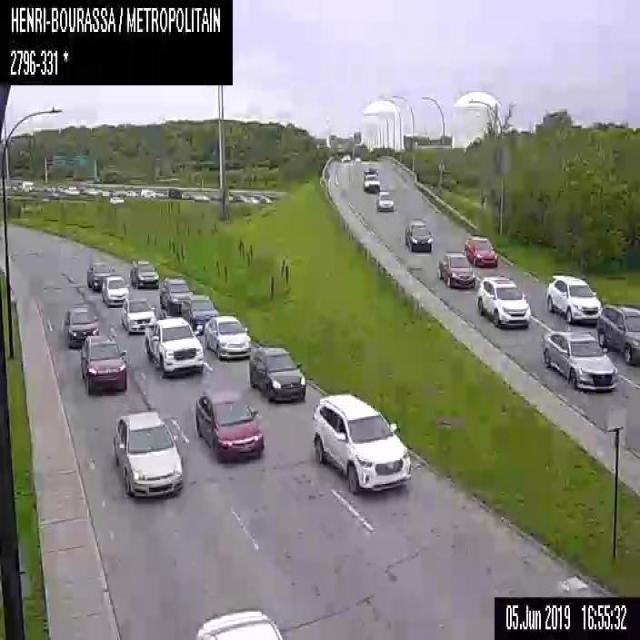vehicle: (311, 391, 411, 492), (112, 409, 181, 499), (542, 324, 617, 389), (194, 389, 262, 459), (144, 316, 203, 374), (248, 345, 306, 400), (476, 274, 530, 326), (546, 273, 600, 323), (80, 334, 126, 392), (596, 304, 639, 364), (195, 610, 281, 638), (204, 314, 250, 356), (63, 303, 98, 349), (180, 294, 218, 332), (436, 251, 475, 288), (121, 297, 155, 334), (159, 276, 192, 314), (464, 232, 496, 266), (404, 218, 432, 250), (129, 258, 158, 288), (100, 274, 128, 305), (86, 260, 114, 290), (363, 166, 379, 191), (376, 190, 393, 210), (21, 180, 34, 191), (232, 192, 245, 201), (140, 188, 154, 196), (181, 190, 193, 199), (193, 193, 208, 200), (109, 196, 122, 203), (340, 153, 351, 161), (247, 196, 258, 202)
